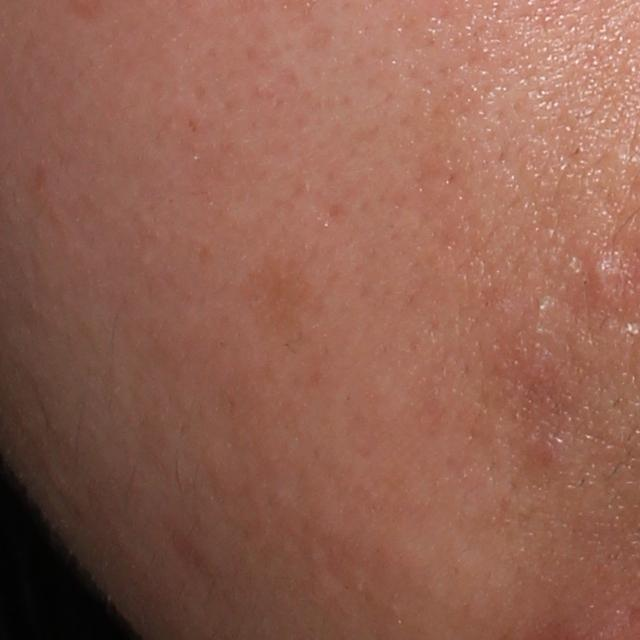melasma: (232, 251, 314, 349)
papule: (582, 252, 621, 306)
